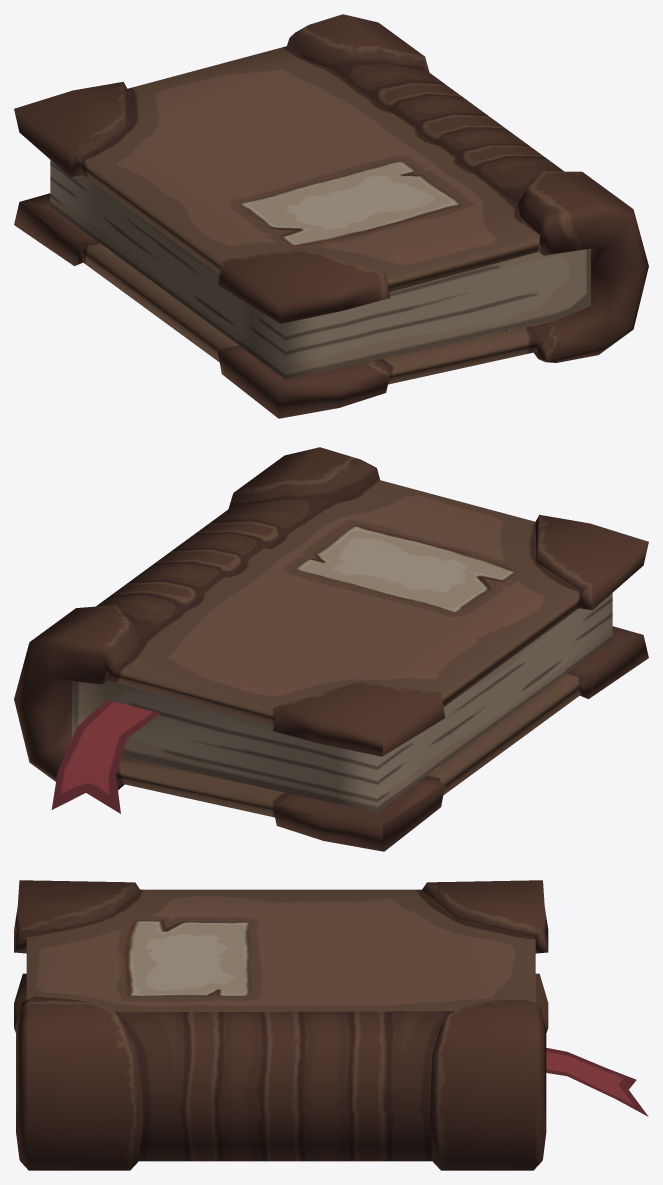
File: book.fbx
3 renders of one model, top to bottom at view 1: azimuth 30°, elevation 25°; view 2: azimuth 150°, elevation 25°; view 3: azimuth 270°, elevation 25°, orthographic.
Parts seen in each view (by area): view 1: polySurface169; view 2: polySurface169; view 3: polySurface169.
Boxes of the visible parts, x1,y1,x2,y2 form: polySurface169: (14,14,648,418); polySurface169: (14,447,648,851); polySurface169: (14,880,648,1170).
Bounding box in the file's own units: 66.68 × 26 × 98.43.
